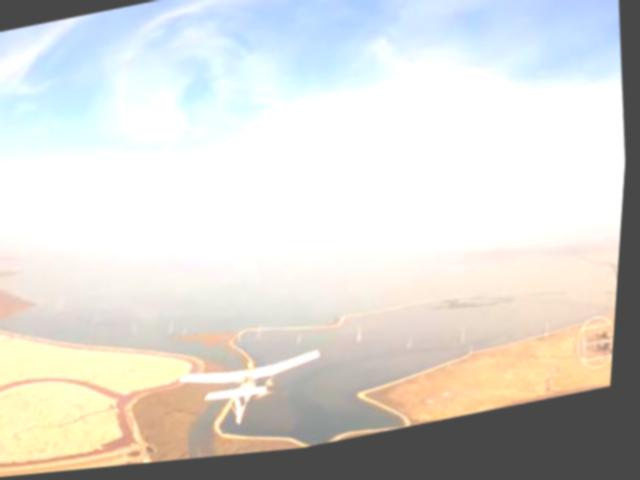uav: (172, 339, 340, 451)
